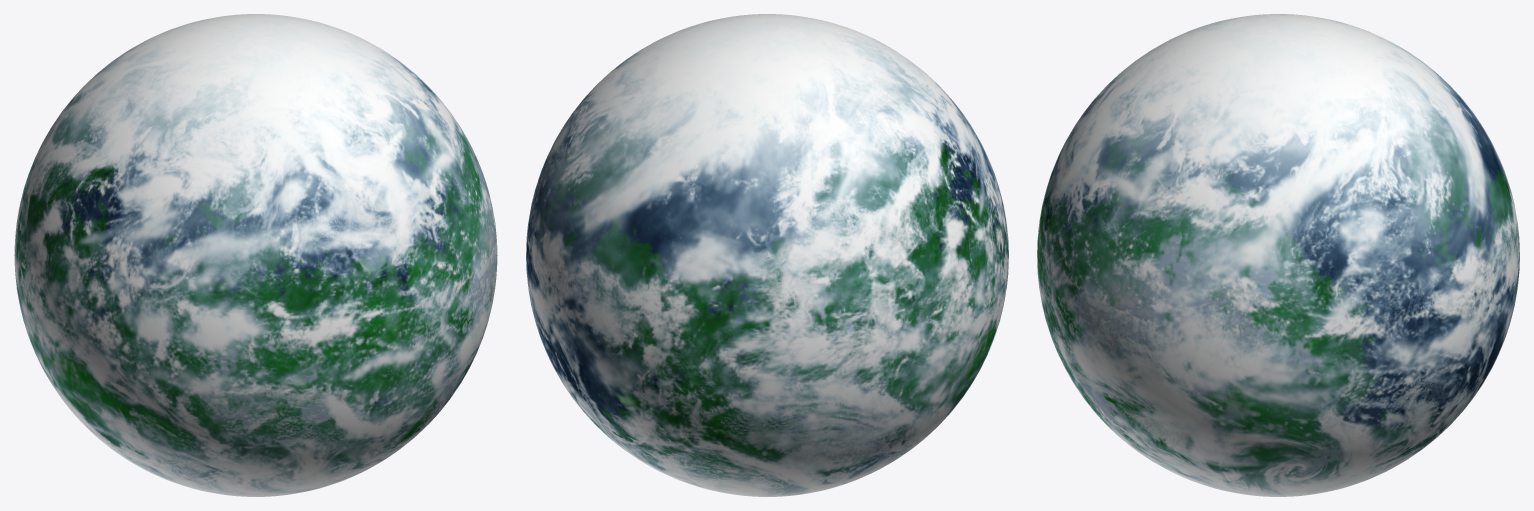
The model's file is terra_final.glb.
The picture shows the model from 3 angles, left to right: view 1: azimuth 30°, elevation 25°; view 2: azimuth 150°, elevation 25°; view 3: azimuth 270°, elevation 25°; orthographic projection.
Parts seen in each view (by area): view 1: Nubes, Esfera; view 2: Nubes, Esfera; view 3: Nubes, Esfera.
Part boxes in pixels (x1,y1,x2,y2): Nubes: (14,14,497,496); Esfera: (16,80,496,475); Nubes: (526,14,1008,496); Esfera: (526,97,1008,483); Nubes: (1037,14,1519,496); Esfera: (1037,86,1518,485).
Bounding box in the file's own units: 2006 × 2006 × 2006.
Materials: 2 (2 with a texture image).
